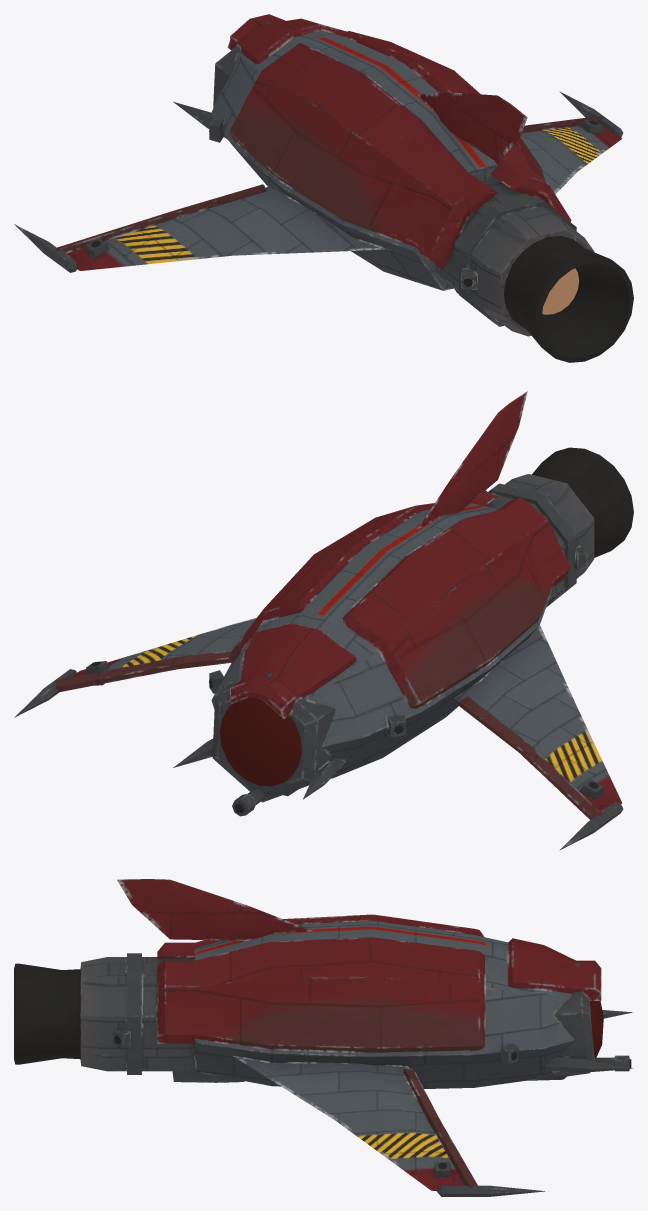
Rendered from mite.glb.
3 renders of one model, top to bottom at view 1: azimuth 30°, elevation 25°; view 2: azimuth 150°, elevation 25°; view 3: azimuth 270°, elevation 25°, orthographic. The views are drawn at different scales.
Parts seen in each view (by area): view 1: hull; view 2: hull; view 3: hull.
Part boxes in pixels (bbox=[...]): hull: bbox=[14, 14, 633, 362]; hull: bbox=[14, 391, 633, 850]; hull: bbox=[14, 879, 633, 1196].
Bounding box in the file's own units: 4.51 × 1.76 × 4.89.
Materials: 1 (1 with a texture image).
